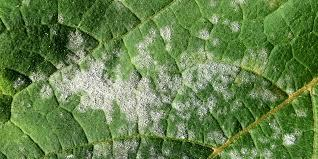powdery_mildew: (18, 23, 305, 150)
